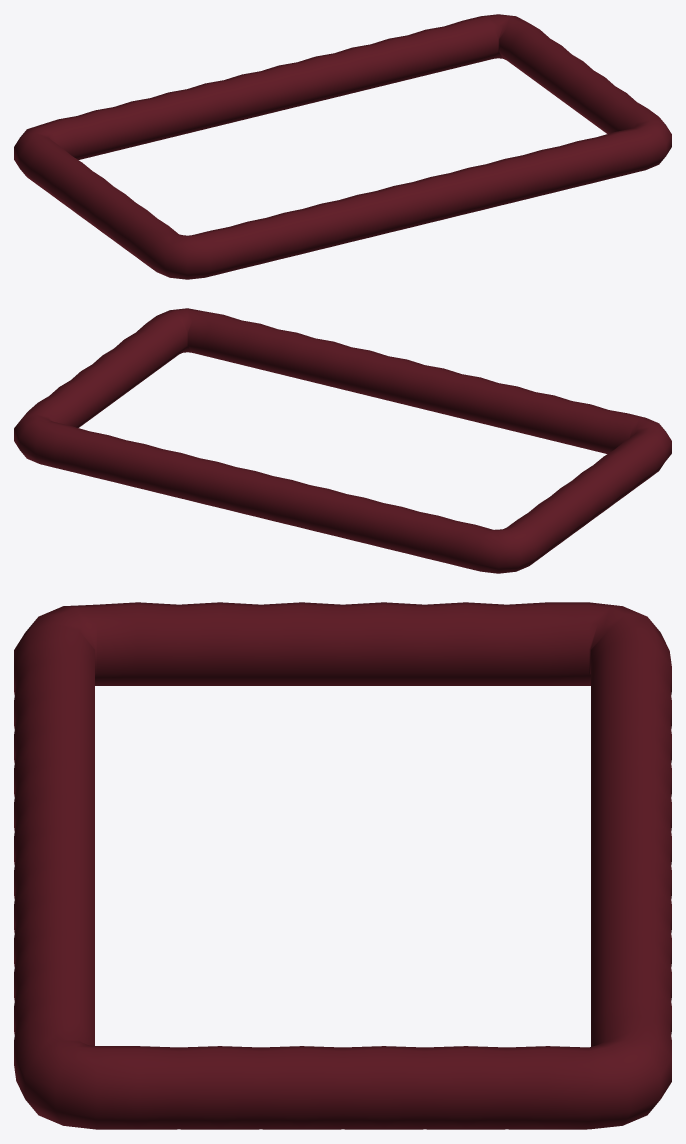
Rendered from rails_mobile.glb.
3 views of the same model, one above another, from view 1: azimuth 30°, elevation 25°; view 2: azimuth 150°, elevation 25°; view 3: azimuth 270°, elevation 25° (orthographic). The views are drawn at different scales.
Visible parts, largest first — view 1: rails_mobile; view 2: rails_mobile; view 3: rails_mobile.
Part boxes in pixels (left/top/right/bottom): rails_mobile: left=14, top=14, right=671, bottom=279; rails_mobile: left=14, top=308, right=671, bottom=573; rails_mobile: left=14, top=602, right=671, bottom=1129.
Bounding box in the file's own units: 2.39 × 0.18 × 1.39.
